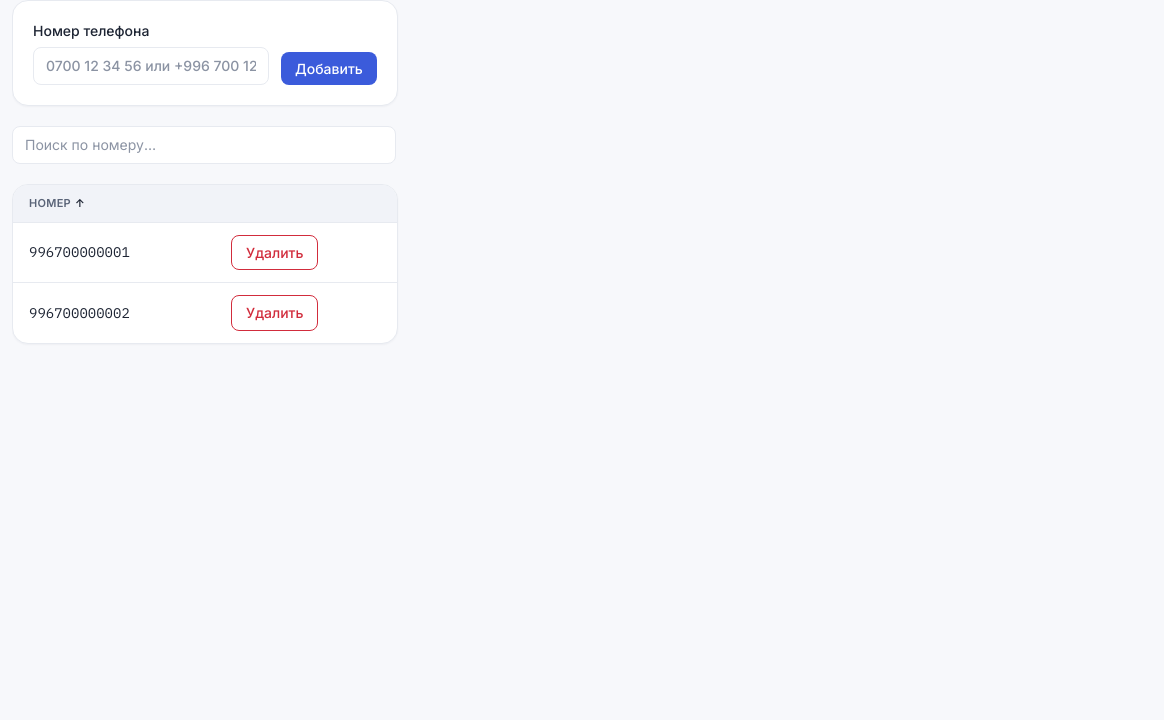
adds a number and prepends it to the list
The width and height of the screenshot is (1164, 720).
Type "+996 700 00 00 03" into the field labelled "Номер телефона".
click(151, 66); type("+996 700 00 00 03")  # box [33,47,269,85]
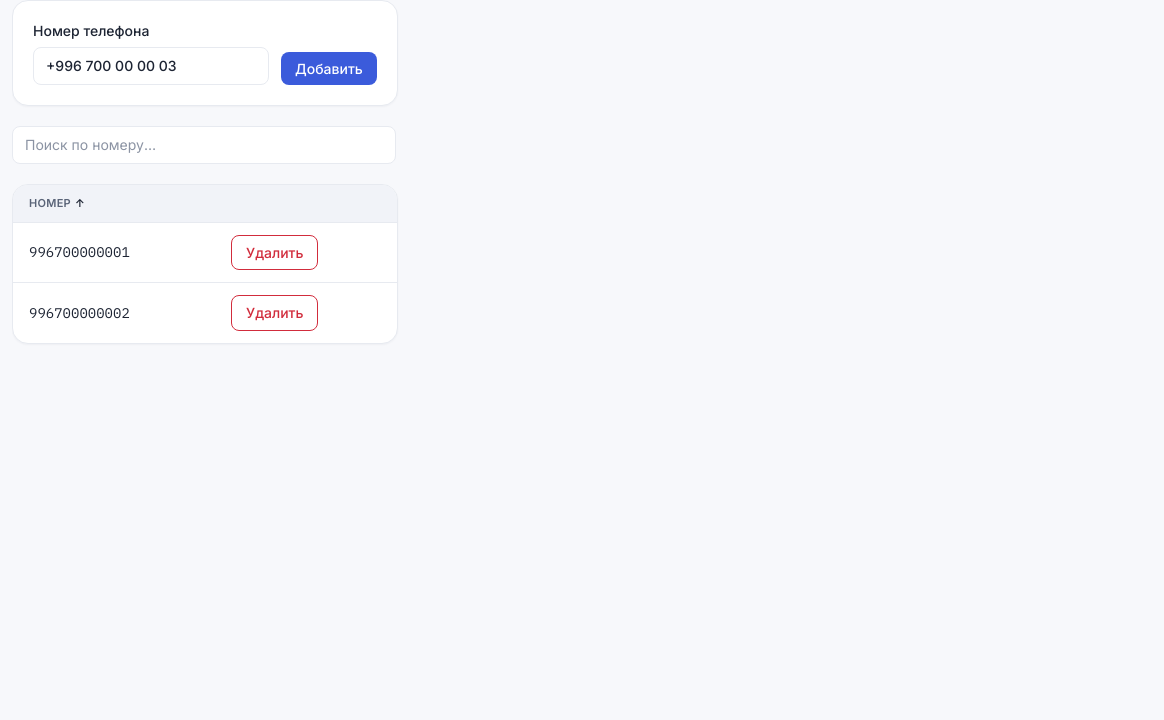
Click the button "Добавить".
click(329, 68)  # box [281,52,377,85]
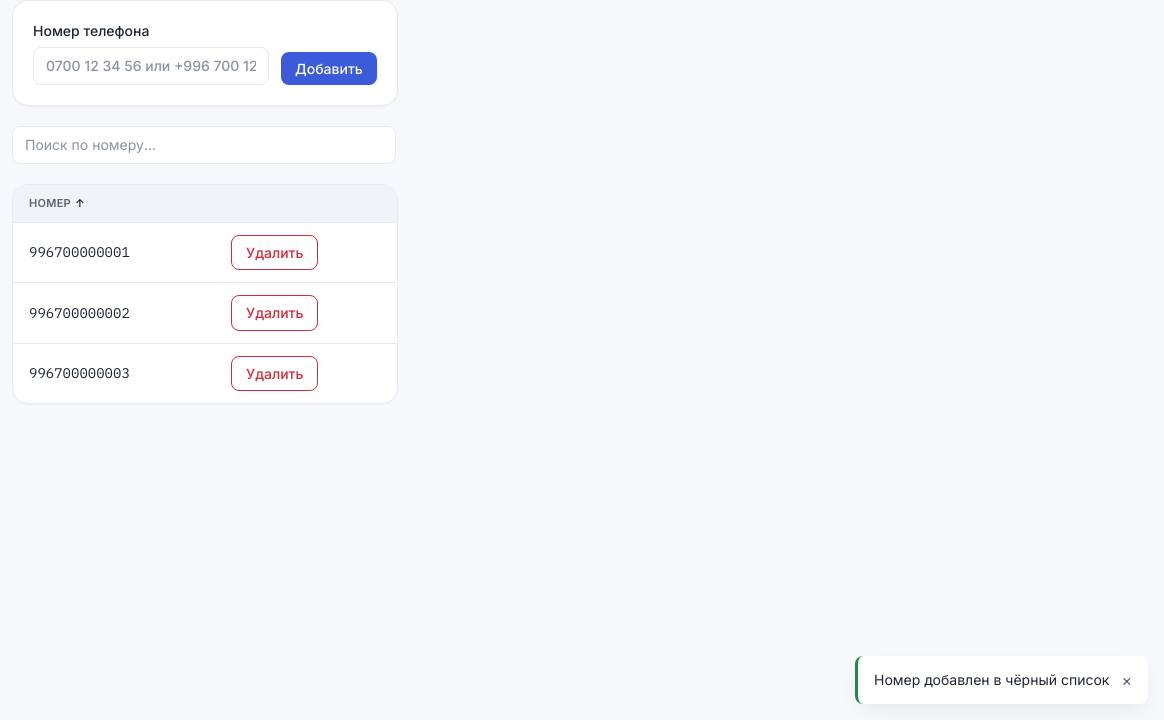
Result: the text "996700000003" is shown at [13,343,215,403]
Result: the field labelled "Номер телефона" is empty at [33,47,269,85]
Result: the message shows "добавлен" at [874,671,1109,688]
